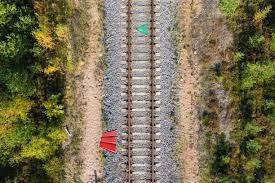Color_steel: (96, 130, 121, 154)
Dust_screen: (135, 24, 148, 37)
